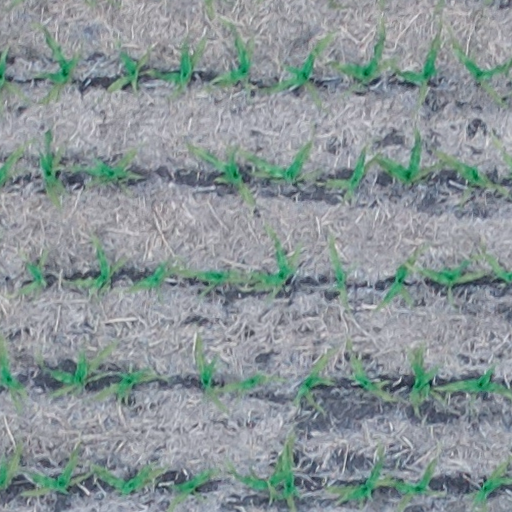planta: (260, 32, 330, 101), (244, 224, 303, 299), (332, 19, 397, 84), (189, 142, 255, 205), (374, 127, 443, 184), (65, 234, 128, 294), (32, 25, 80, 103), (436, 150, 511, 195), (19, 445, 85, 496), (147, 38, 206, 95), (206, 23, 255, 91), (324, 444, 383, 500), (392, 37, 441, 103), (407, 344, 450, 419), (346, 338, 396, 402), (414, 256, 485, 300), (223, 457, 295, 499), (240, 140, 310, 182), (293, 347, 335, 414), (47, 345, 103, 395), (91, 461, 169, 496), (67, 146, 140, 183), (193, 333, 226, 410), (326, 234, 355, 310), (379, 250, 418, 306), (324, 147, 365, 200), (107, 45, 152, 91), (94, 367, 158, 399), (38, 133, 66, 205), (173, 266, 244, 292), (16, 248, 48, 295), (127, 260, 171, 294), (218, 371, 284, 393)
